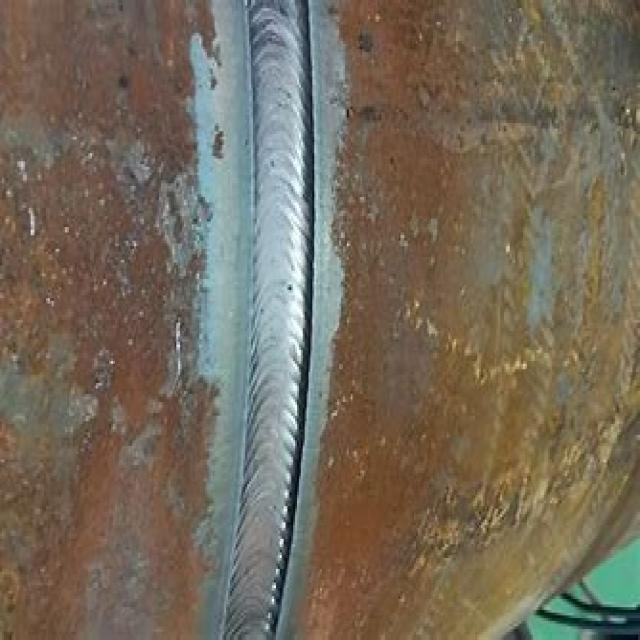Good Weld: (208, 3, 324, 638)
